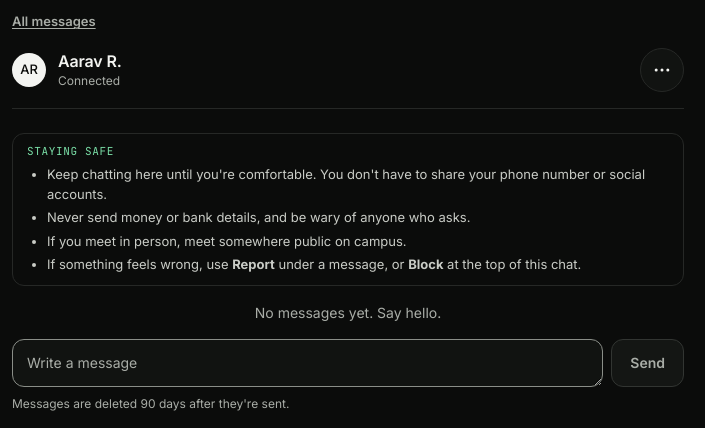
/messages/[connectionId] › still opens the chat, with a link back to Home's messages
Check: the heading "Aarav R." is shown, box [58,50,122,72]
// Block and Report sit in the header's "⋯" menu.
What coordinates should you click on to do the following:
click the button named "More actions for Aarav R."
I would click on:
 (662, 70)
Its box is [640,48,684,92].
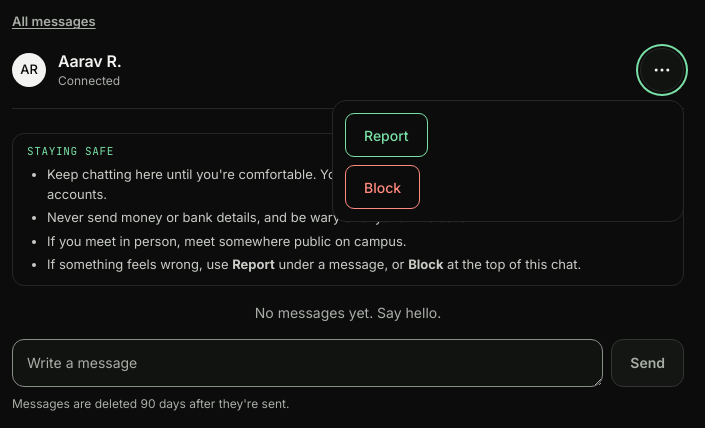
Check: the button "Block" is shown, box [345,165,420,209]
Check: the button "Report" is shown, box [345,113,428,157]
